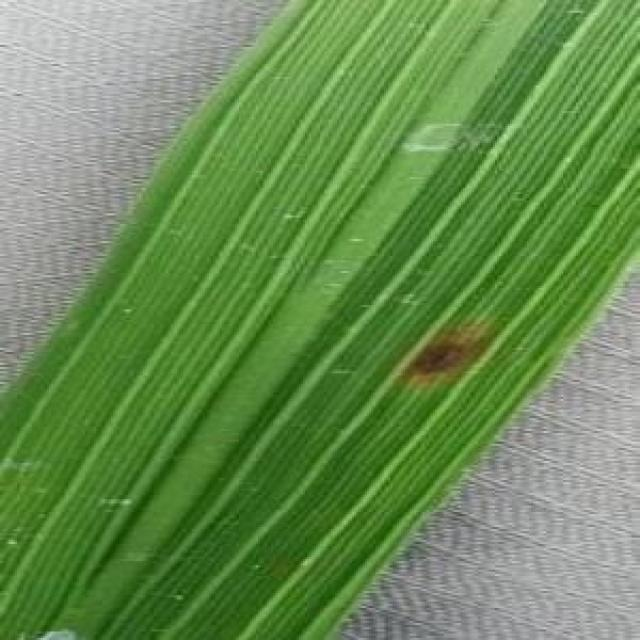brownspots: (405, 324, 493, 388)
